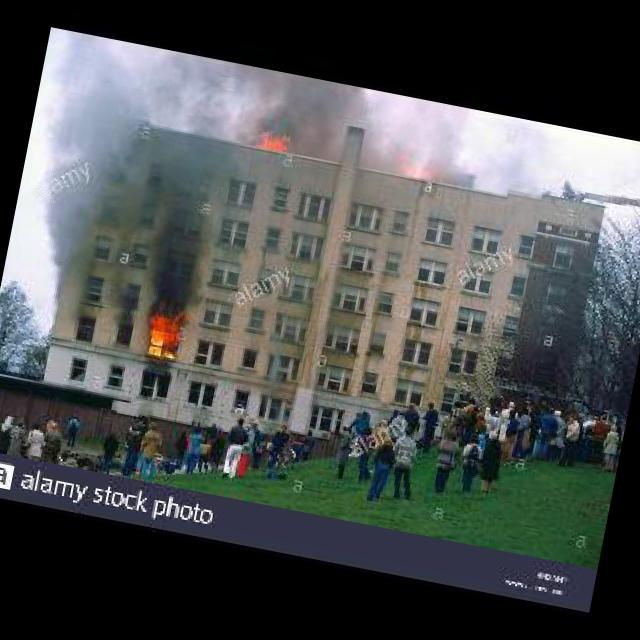Fire: (142, 312, 192, 361), (254, 122, 292, 154), (402, 162, 434, 180)
Smoke: (19, 37, 251, 316), (247, 64, 371, 145)
